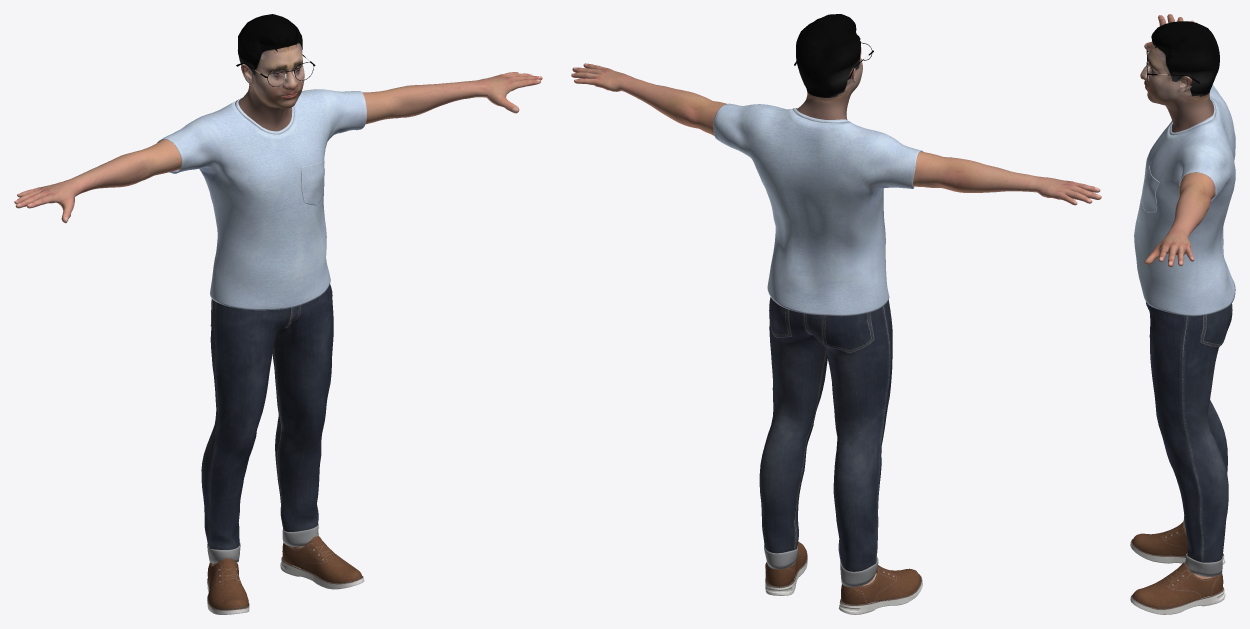
The model's file is Nicer.fbx.
The picture shows the model from 3 angles, left to right: view 1: azimuth 30°, elevation 25°; view 2: azimuth 150°, elevation 25°; view 3: azimuth 270°, elevation 25°; orthographic projection. The views are drawn at different scales.
Visible parts, largest first — view 1: outfit, AvatarBody, C_3; view 2: outfit, AvatarBody, C_3; view 3: outfit, C_3, AvatarBody.
Boxes of the visible parts, left/top/right/bottom form: outfit: left=157, top=89, right=366, bottom=614; AvatarBody: left=14, top=72, right=542, bottom=565; C_3: left=237, top=14, right=304, bottom=131; outfit: left=713, top=103, right=923, bottom=614; AvatarBody: left=571, top=63, right=1101, bottom=585; C_3: left=796, top=14, right=862, bottom=119; outfit: left=1130, top=85, right=1235, bottom=614; C_3: left=1140, top=21, right=1219, bottom=132; AvatarBody: left=1144, top=14, right=1215, bottom=578.
Size of the model in its own units: 176 by 182 by 31.3.
12 materials, 7 textured.
